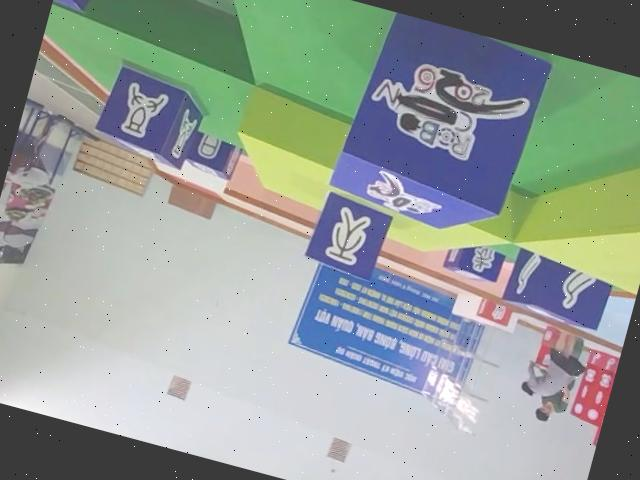R1 Blue: (326, 7, 555, 248)
R2 Fake Blue: (303, 186, 397, 283), (181, 130, 244, 183), (441, 237, 506, 287)
R2 Real Blue: (90, 61, 210, 172), (500, 246, 616, 334)
